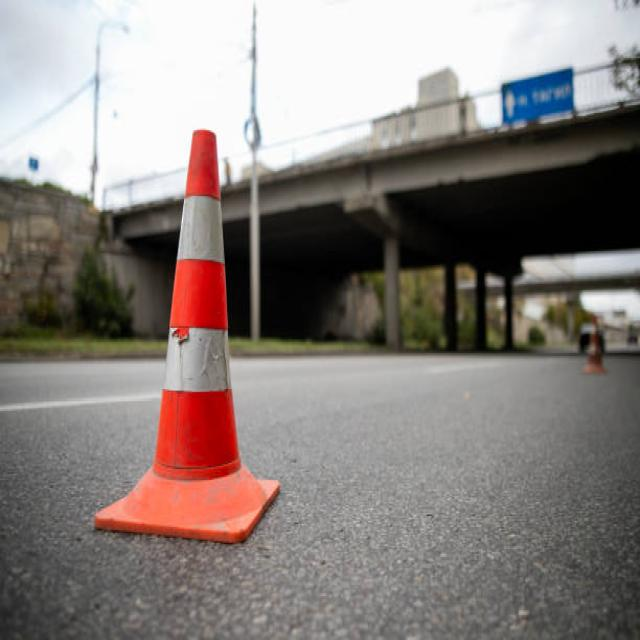Traffic Cone: (87, 68, 287, 575)
